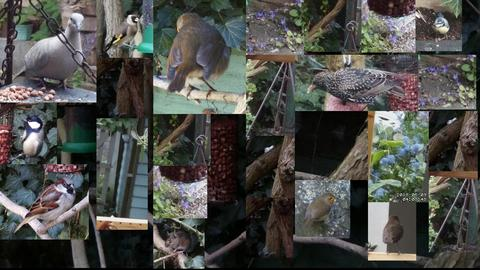blue tit: (432, 12, 450, 40)
collared dove: (12, 12, 84, 90)
goldfinch: (102, 12, 141, 53)
great tit: (6, 115, 44, 164)
mouse: (164, 231, 192, 257)
robin: (166, 12, 234, 102), (302, 192, 338, 231), (382, 215, 404, 256)
sparrow: (12, 177, 76, 234)
starling: (308, 67, 406, 105)
